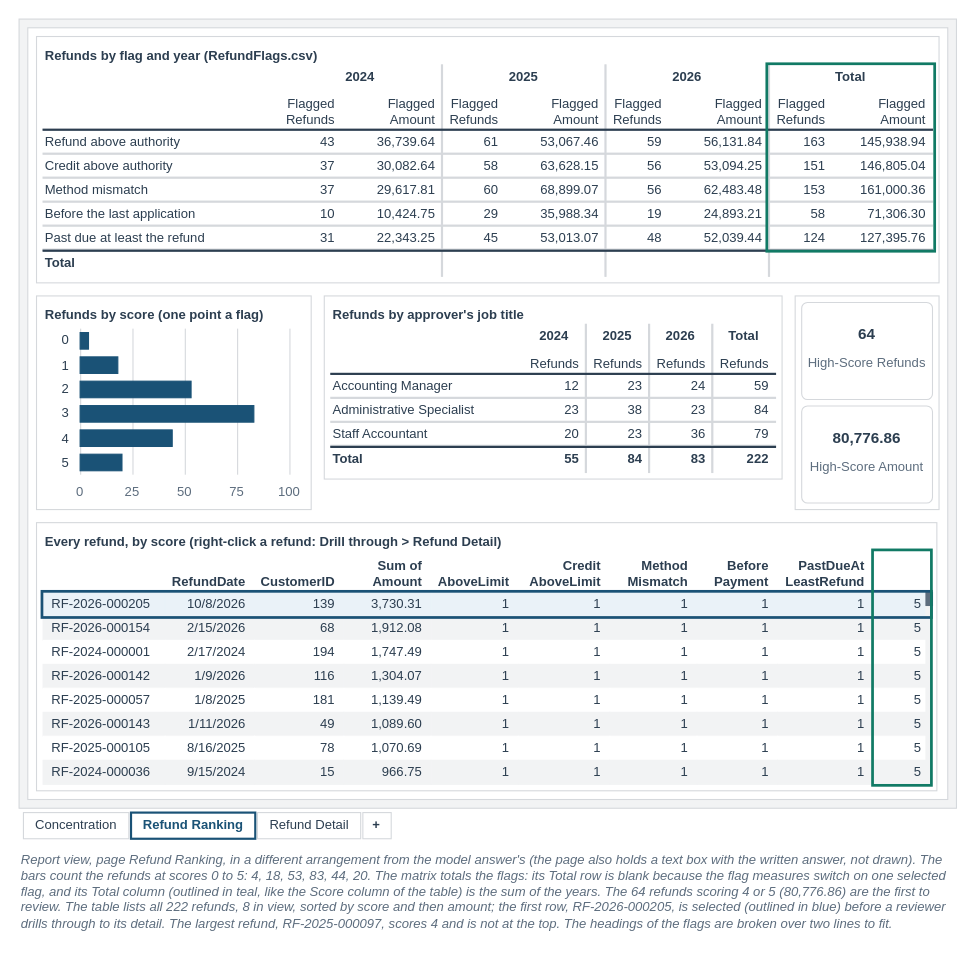
Some shapes in this 976 by 957 pixel diagram are drawn without their labels. Each missing label, with the box of its shape:
RefundNumber: (42, 550, 165, 592)
Score: (873, 550, 930, 592)
